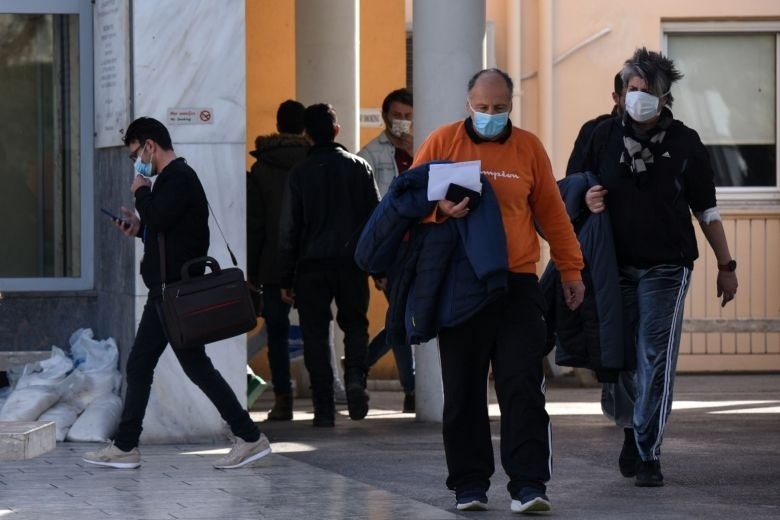face_with_mask: (621, 49, 676, 127), (467, 69, 515, 137), (122, 117, 173, 177), (379, 90, 415, 140)
